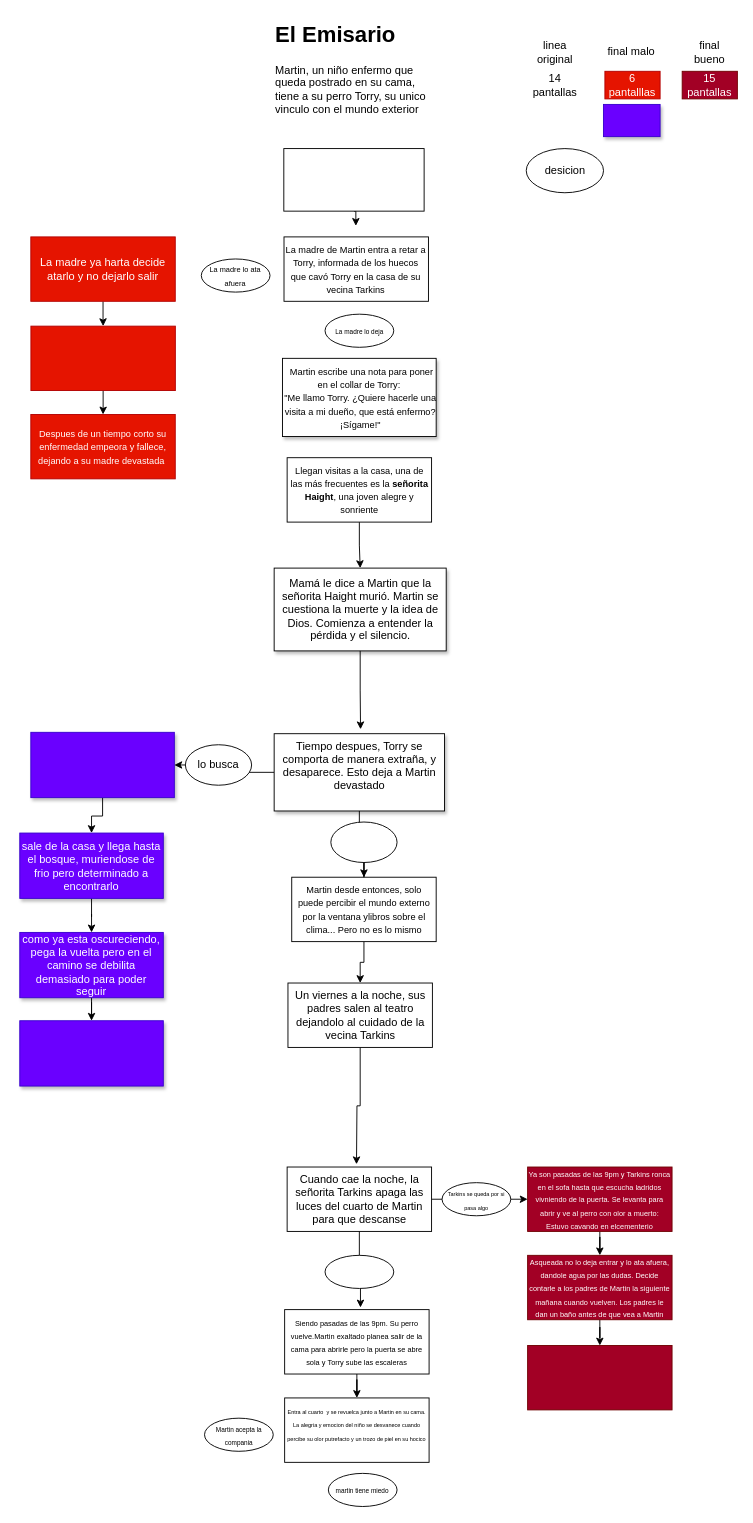
Some shapes in this 753 by 1523 pixel diagram are drawn without their labels. The shapes that lost their labels are listed below. From the top down, each one's centre as x and y in pixels, then its label:
(x=632, y=121): 10 pantallas
(x=353, y=179): Martin, enfermo y postrado en cama, recibe a Torry con alegría.
(x=102, y=358): Martin resiente a su madre el resto del otoño por su desición
(x=103, y=766): una madrugada solitaria él sale de la cama, se viste y baja las escaleras
(x=363, y=841): se queda
(x=92, y=1054): muere de frio, sus padres descubren el acontecimiento por los vecinos
(x=359, y=1271): Tarkins vuelve a su casa
(x=599, y=1377): Martin esta feliz de ver a Torry despues de tanto tiempo. Fin
